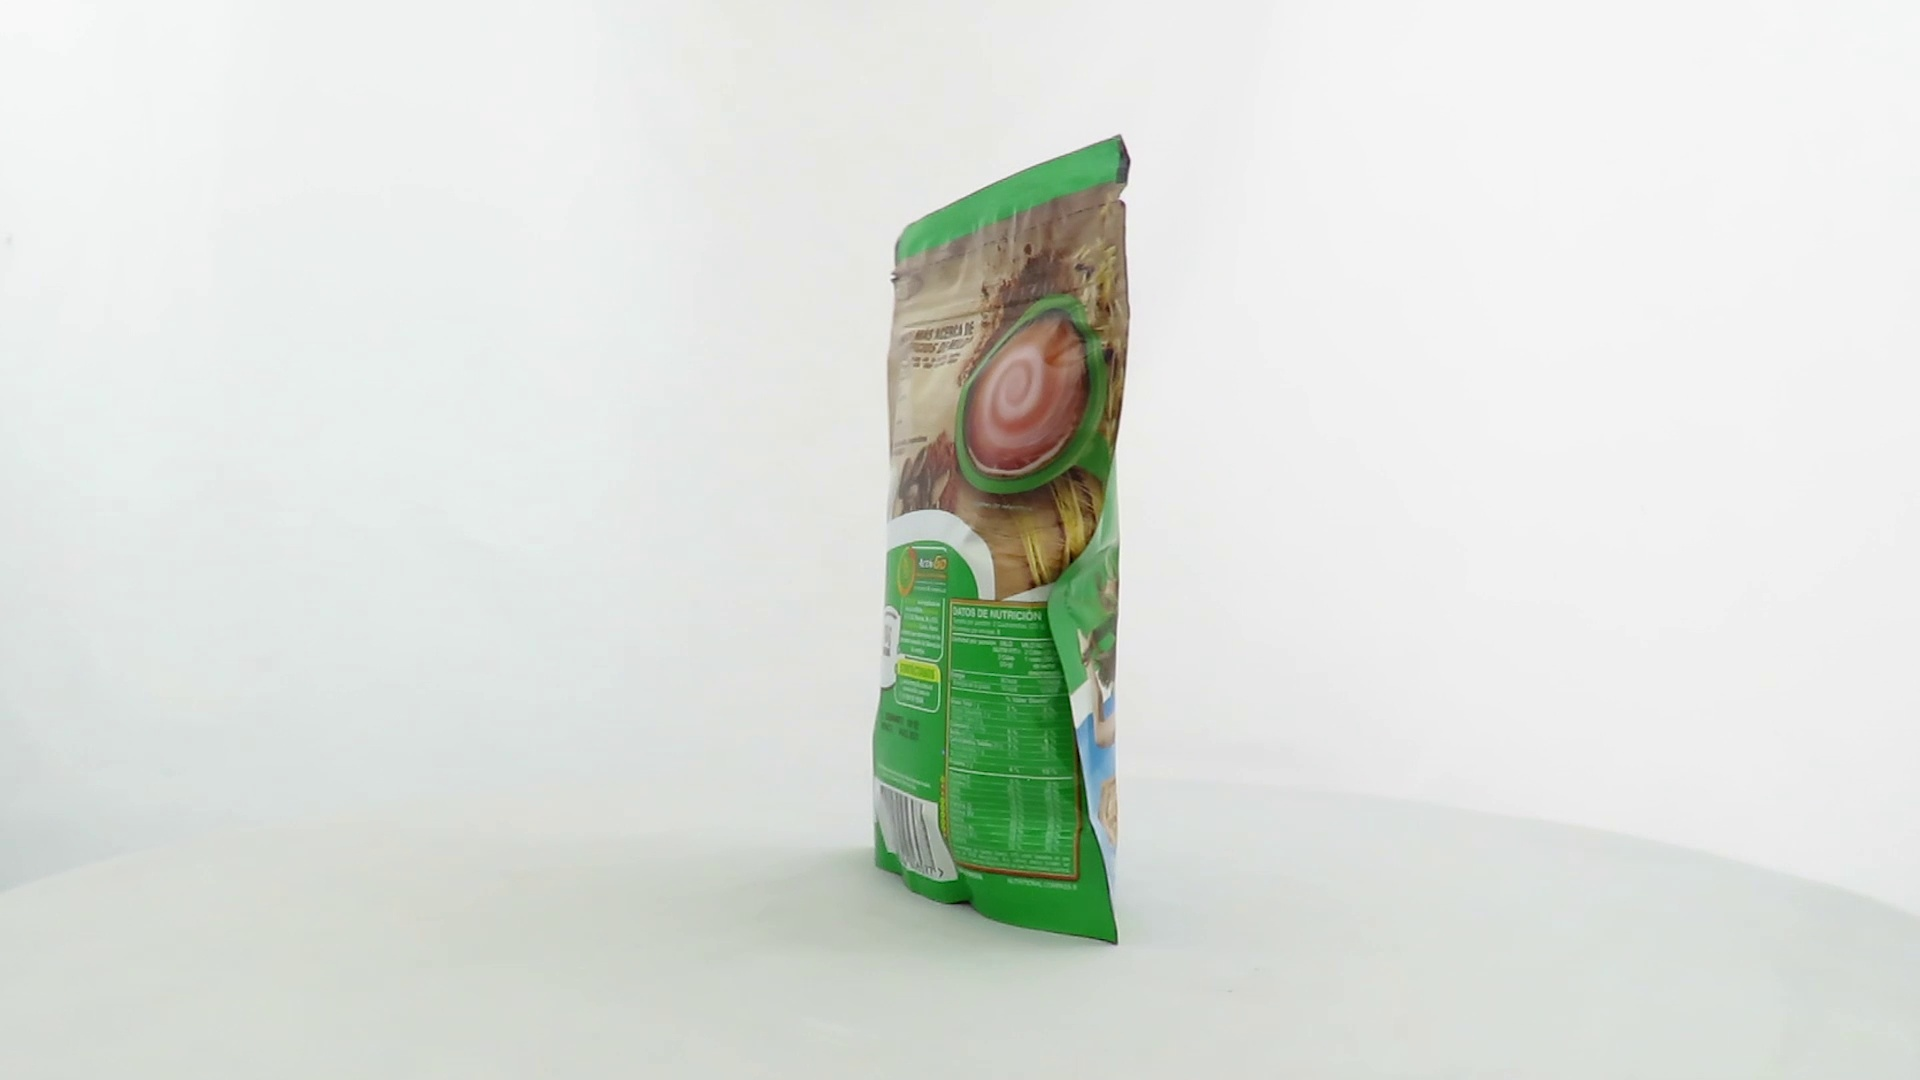COL0170205DYP20000: (866, 129, 1137, 951)
